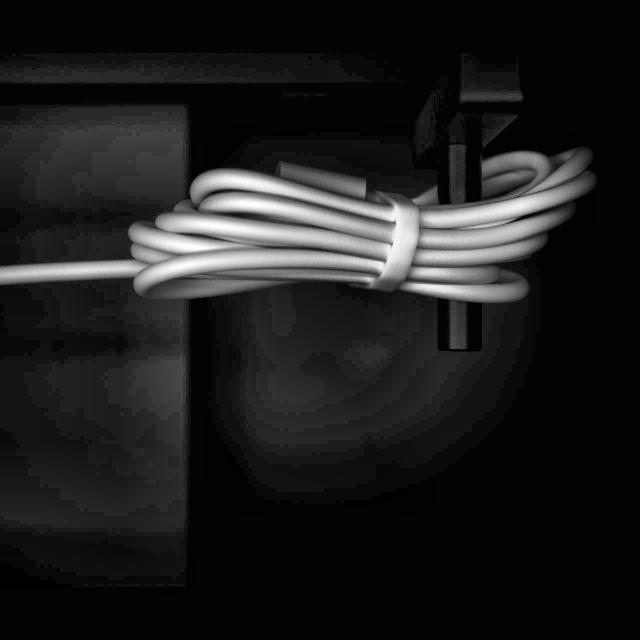Cable: (0, 140, 605, 306)
